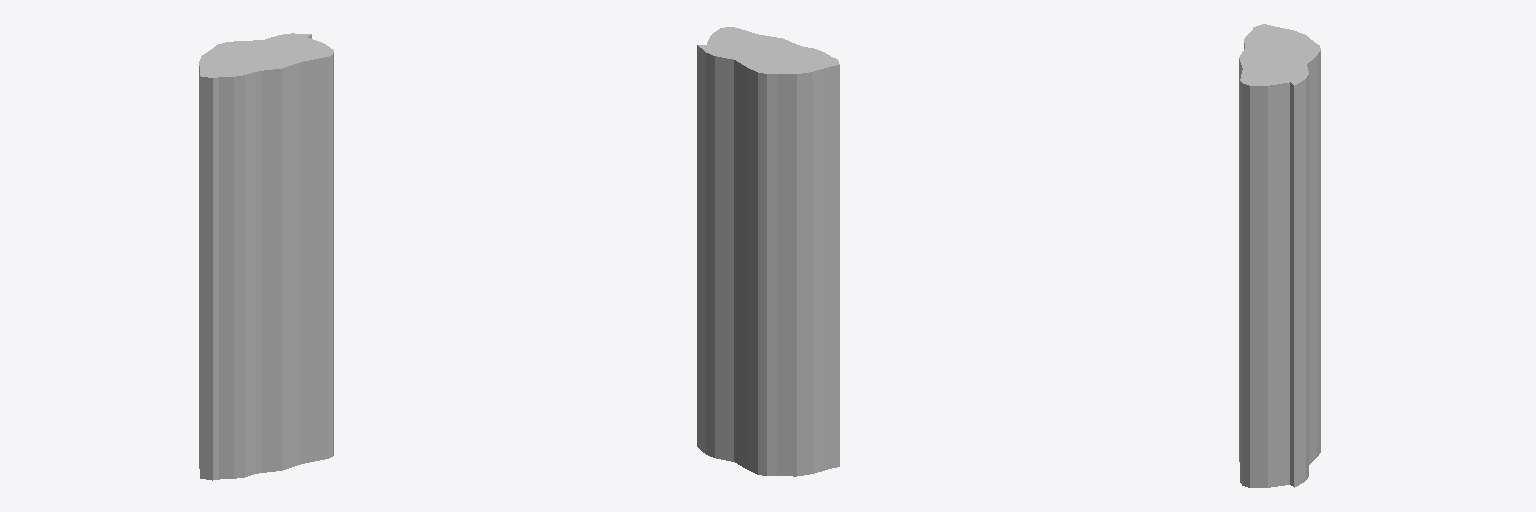
3 renders of one model, left to right at view 1: azimuth 30°, elevation 25°; view 2: azimuth 150°, elevation 25°; view 3: azimuth 270°, elevation 25°, orthographic.
Visible parts, largest first — view 1: BT.002_CUCurve.1827; view 2: BT.002_CUCurve.1827; view 3: BT.002_CUCurve.1827.
Part boxes in pixels (left/top/right/bottom): BT.002_CUCurve.1827: left=199, top=33, right=333, bottom=480; BT.002_CUCurve.1827: left=697, top=27, right=839, bottom=476; BT.002_CUCurve.1827: left=1239, top=24, right=1320, bottom=487.
Bounding box in the file's own units: 0.0166 × 0.05 × 0.0093.